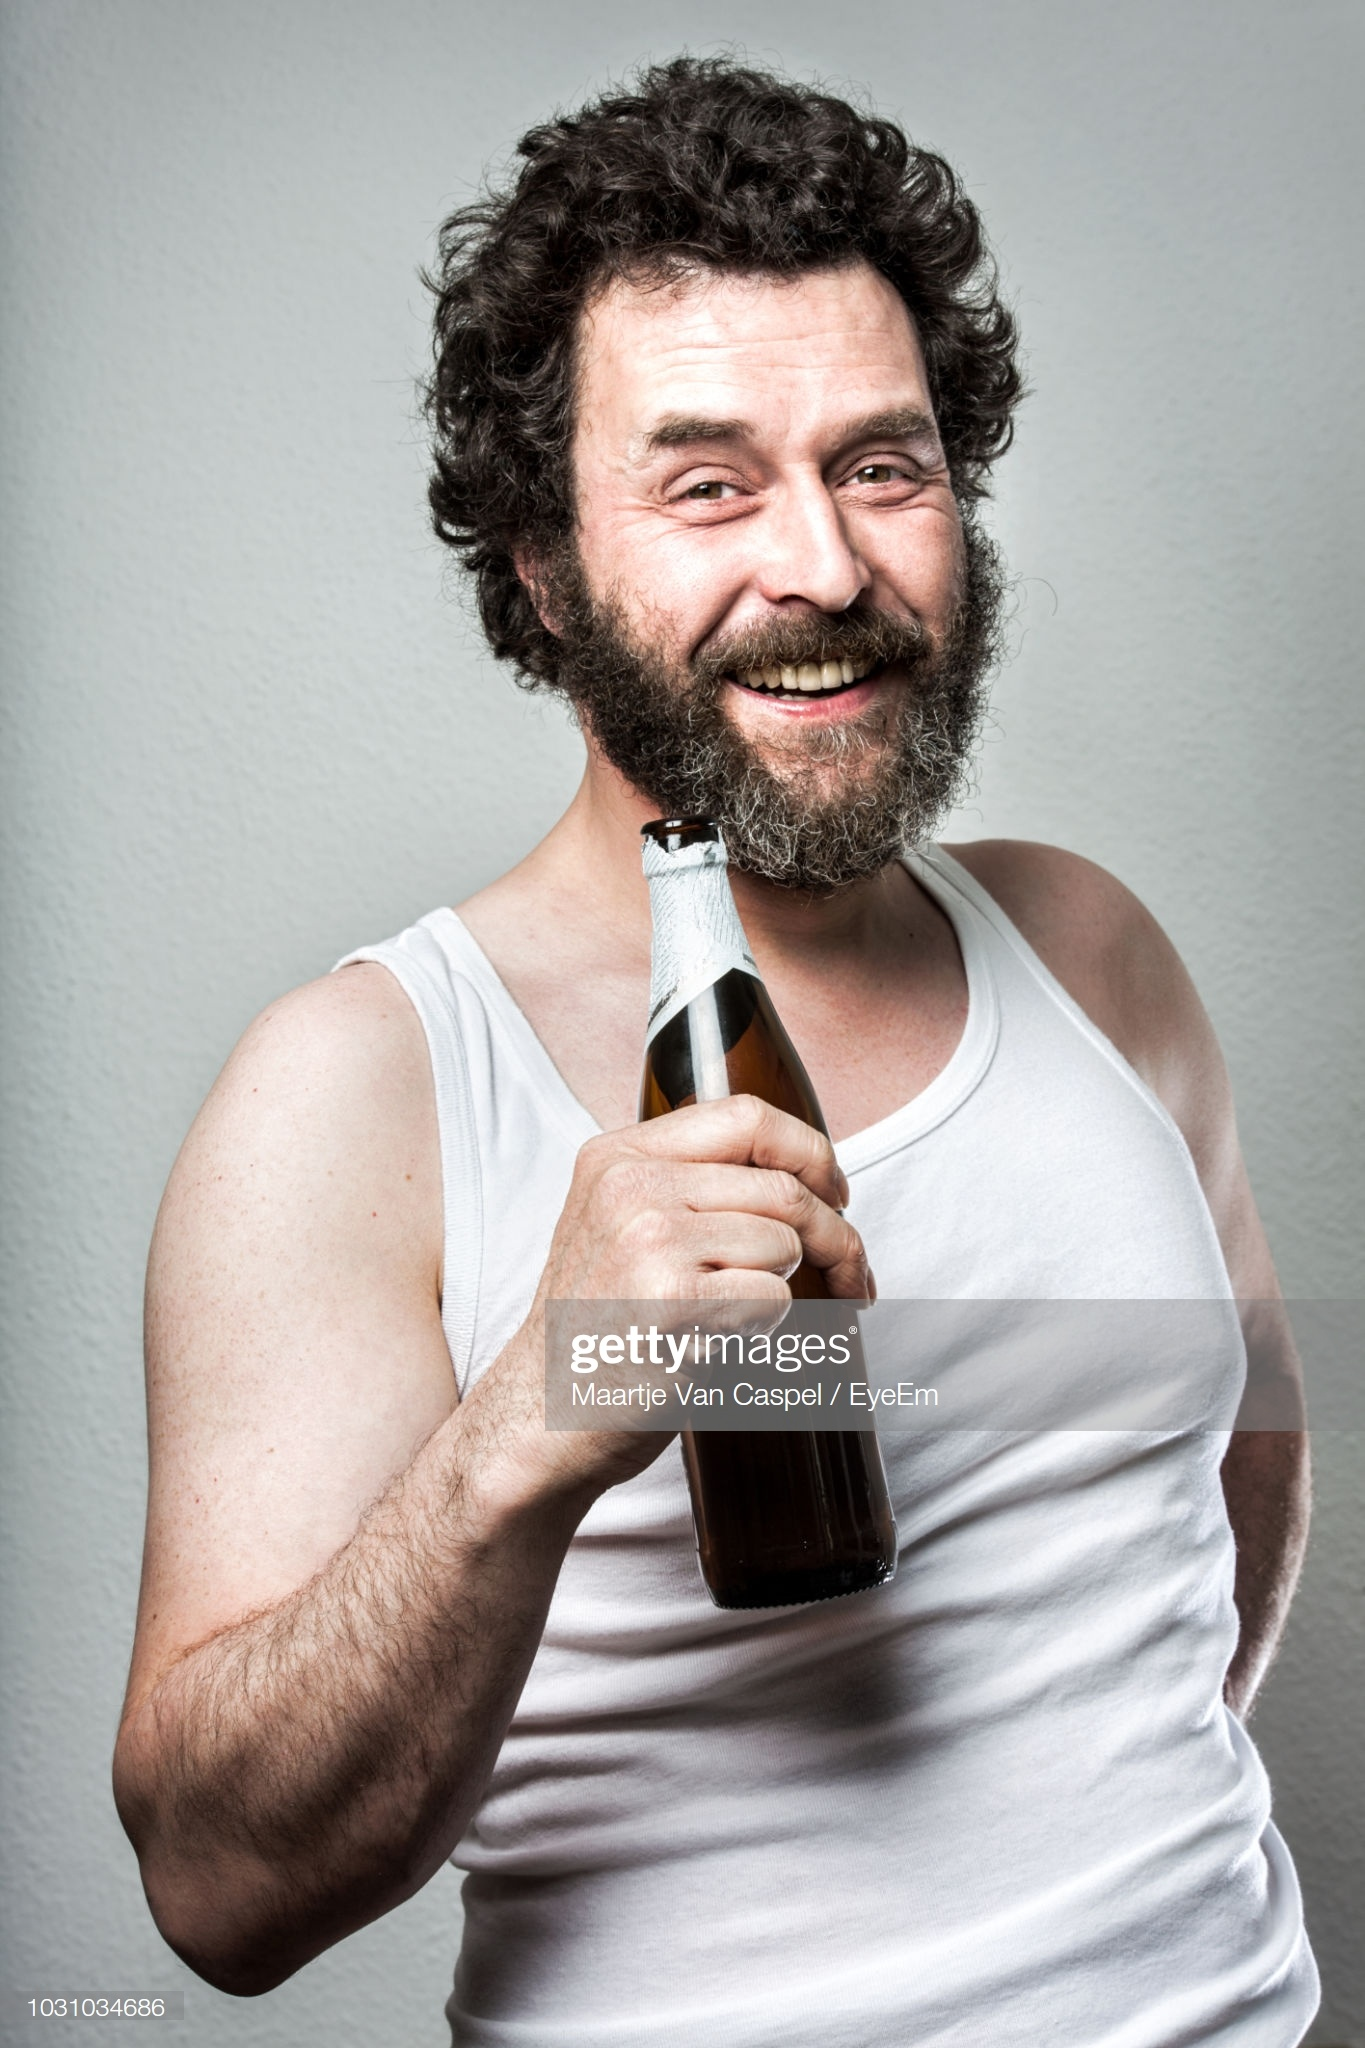beerBottle: (634, 818, 905, 1614)
